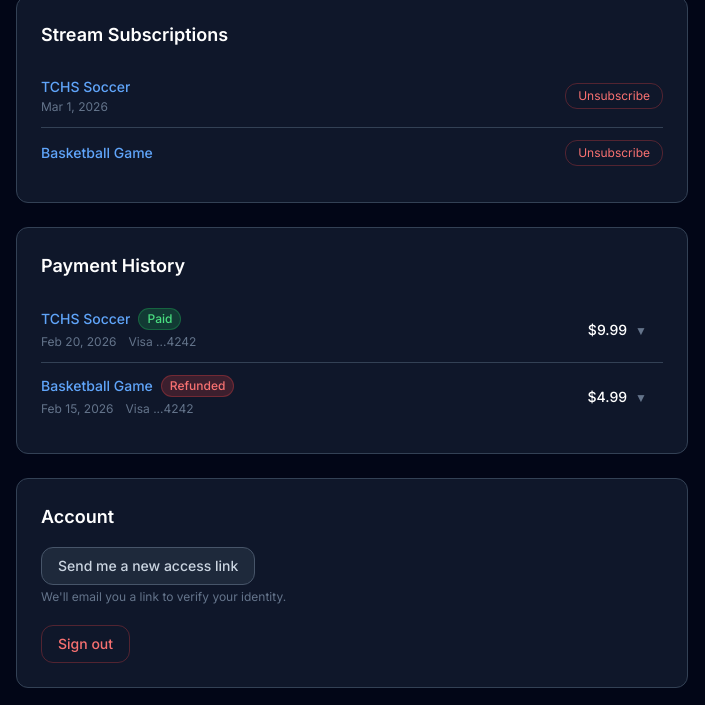
Test: Account Page › Account actions › should show "Send access link" button and confirm on click
This screenshot has width=705, height=705.
(page scrolled)
Click the button with test id "btn-send-access-link".
click(148, 566)  # box [41,547,255,585]
(page scrolled)
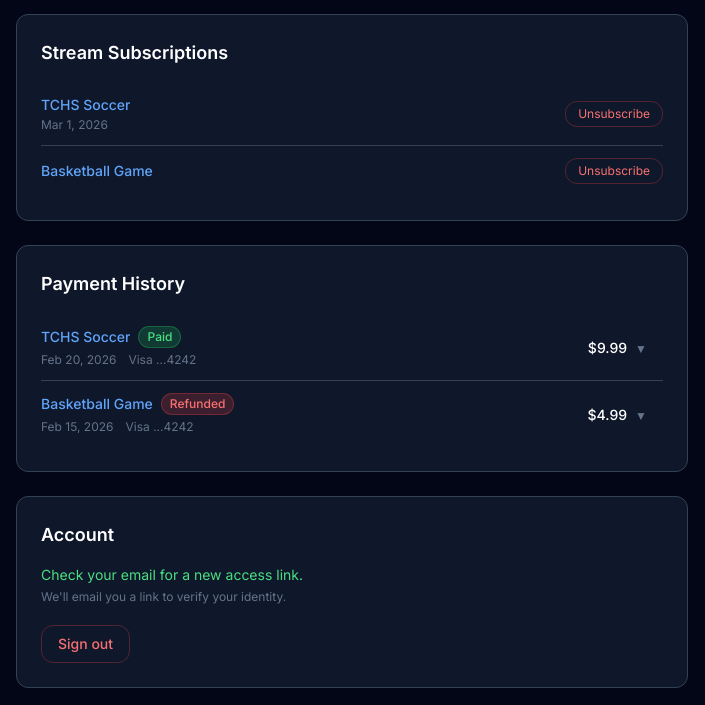
Now the text "Check your email for a new access link." is shown, box [41,566,303,583]
